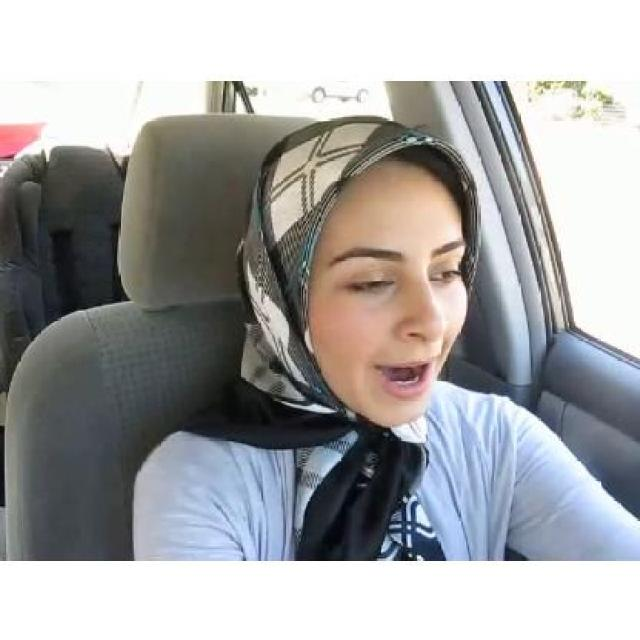inattentif: (252, 114, 468, 431)
